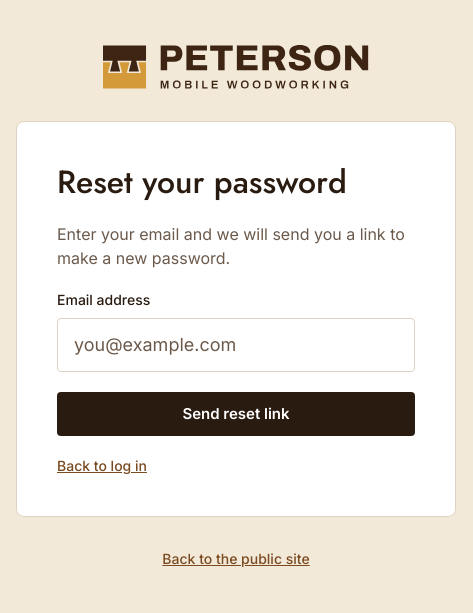
Test: ForgotPasswordPage › shows the unreachable error and keeps the form
The width and height of the screenshot is (473, 613).
Type "girlie@example.com" into the field labelled "Email address". click: [236, 345]
box: [57,318,415,372]
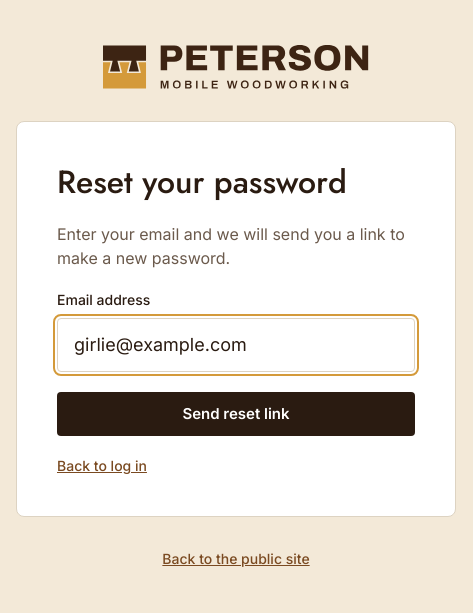
Click the button "Send reset link". click: [236, 414]
box: [57,392,415,436]
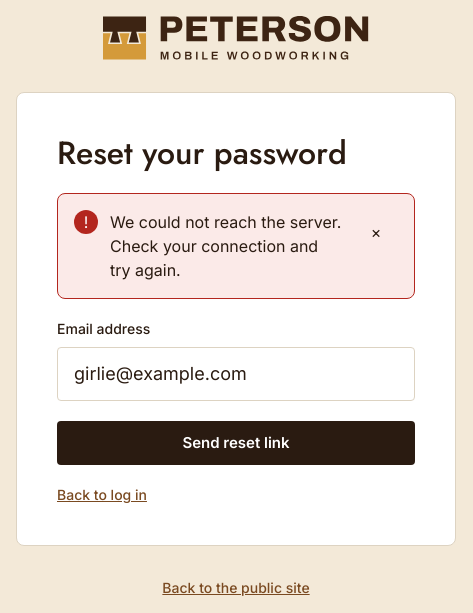
Expected: the message shows "We could not reach the server. Check your connection and try again.", [110,212,342,280]
